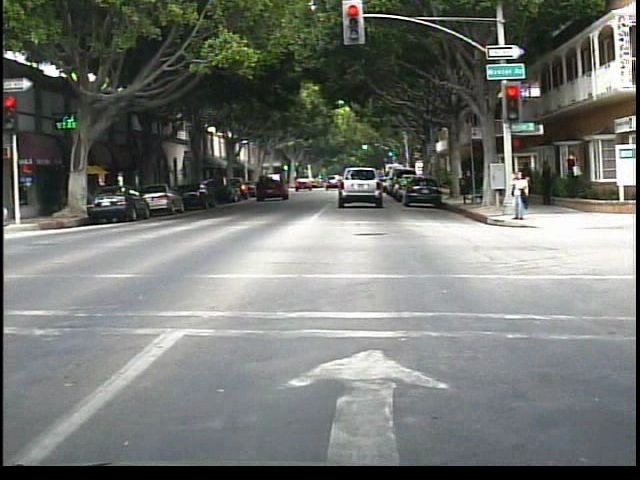person: (505, 168, 531, 223), (535, 158, 556, 212), (562, 149, 583, 199), (517, 157, 535, 205)
